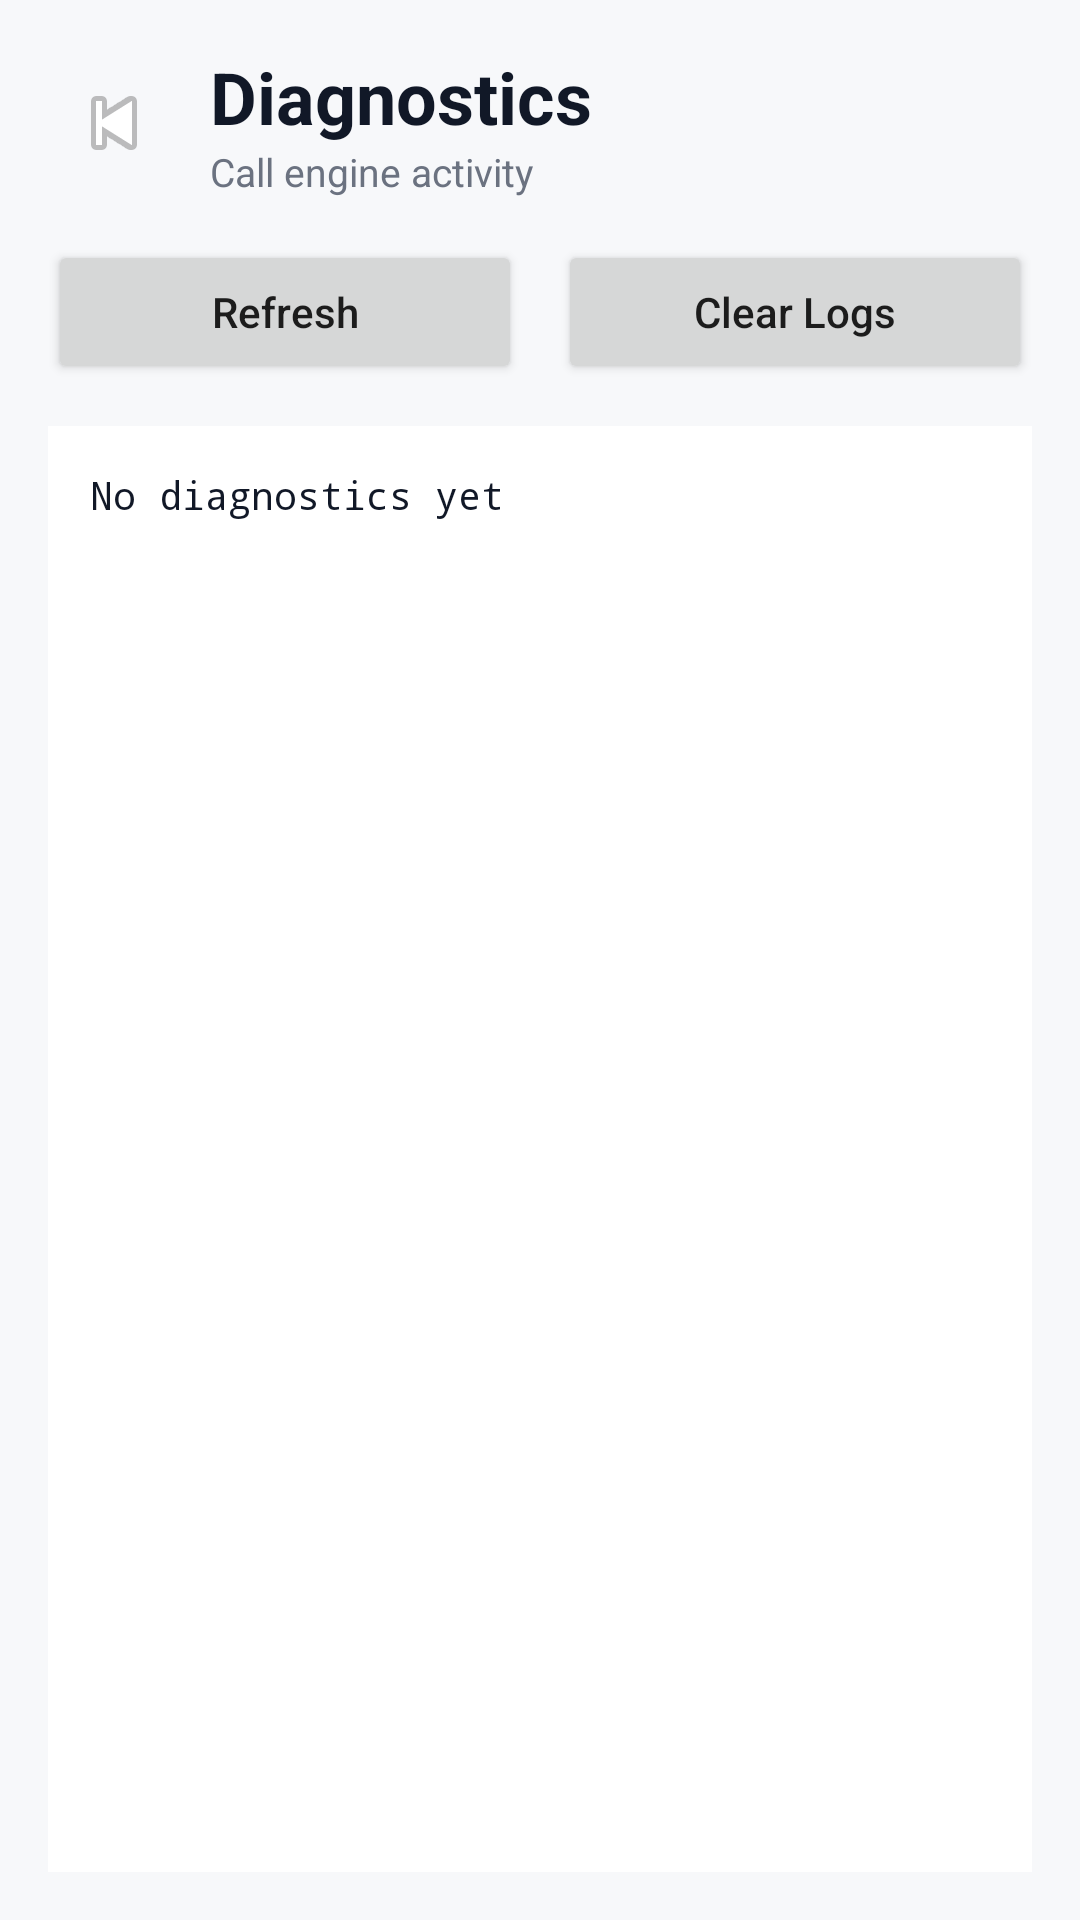

Icons on this 1080px×1920px Android screen, each with its box as (x1, y1, x2, y2):
Back: (91, 96, 137, 150)
